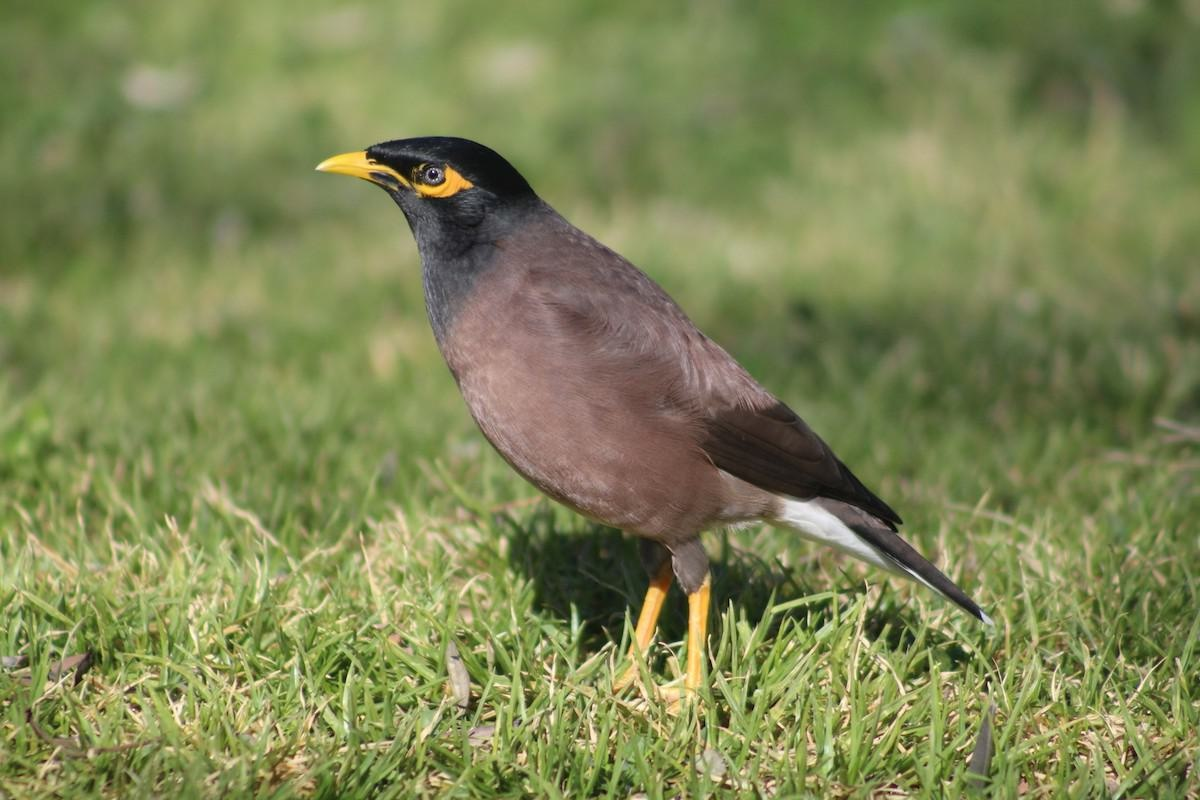myna: (308, 113, 987, 662)
